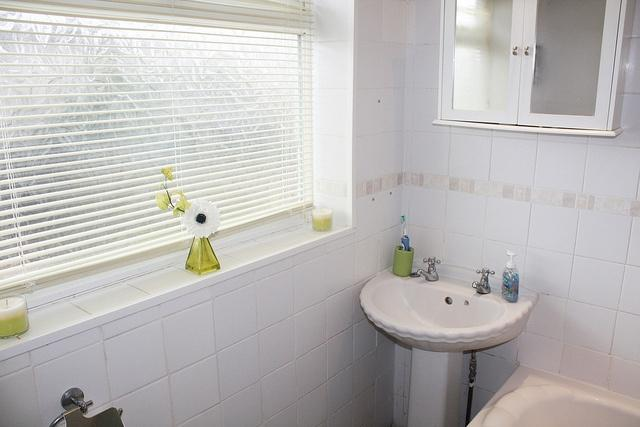Lemari: (430, 0, 639, 137)
